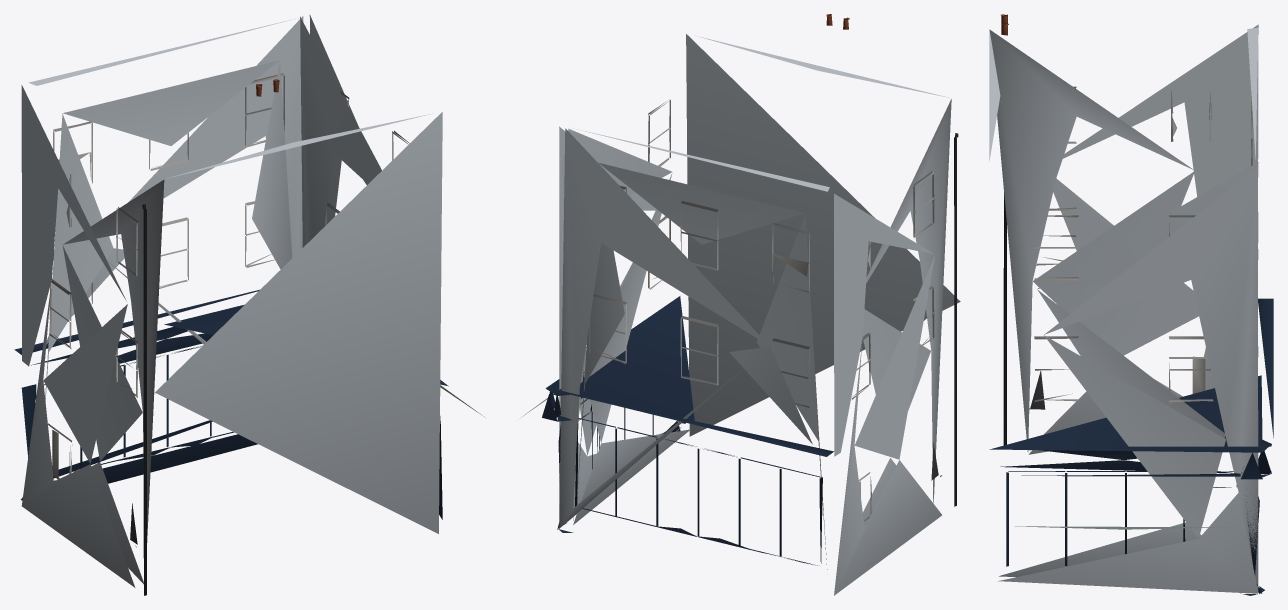
File: corner-shop_mirror.glb
The picture shows the model from 3 angles, left to right: view 1: azimuth 30°, elevation 25°; view 2: azimuth 150°, elevation 25°; view 3: azimuth 270°, elevation 25°; orthographic projection. The views are drawn at different scales.
Visible parts, largest first — view 1: corner-shop_mirror; view 2: corner-shop_mirror; view 3: corner-shop_mirror.
Boxes of the visible parts, x1,y1,x2,y2 form: corner-shop_mirror: (14,14,483,595); corner-shop_mirror: (521,14,960,595); corner-shop_mirror: (989,14,1273,595).
Bounding box in the file's own units: 9.06 × 12.08 × 6.34.
